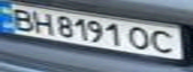1: (103, 20, 127, 47), (69, 16, 87, 40)
8: (54, 12, 75, 39)
9: (84, 17, 106, 44)
B: (3, 6, 39, 31)
C: (145, 28, 184, 55)
H: (30, 9, 57, 36)
O: (124, 24, 157, 52)
